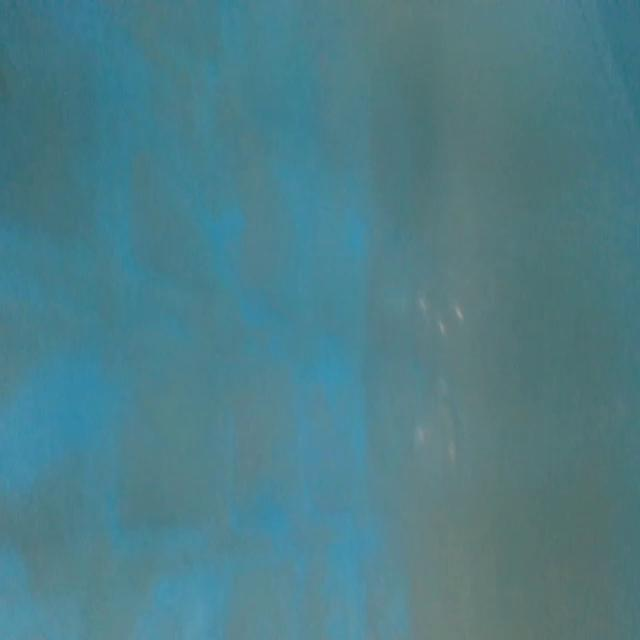plastic bottle: (404, 263, 486, 501)
